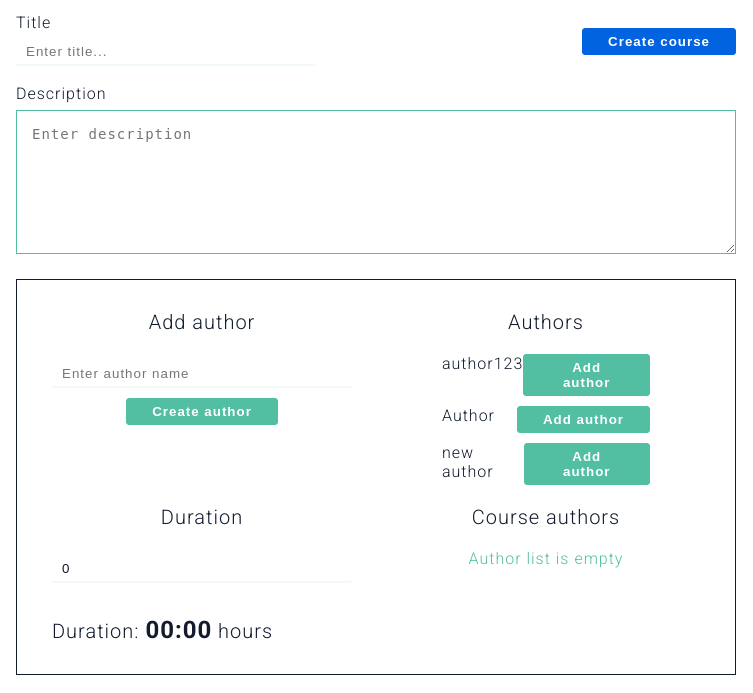
course form comp › course form comp with /add route › title error should be rendered on focus out in case of invalid data
Type "t" into the field labelled "Title".
click(166, 52); type("t")  # box [16,39,316,66]
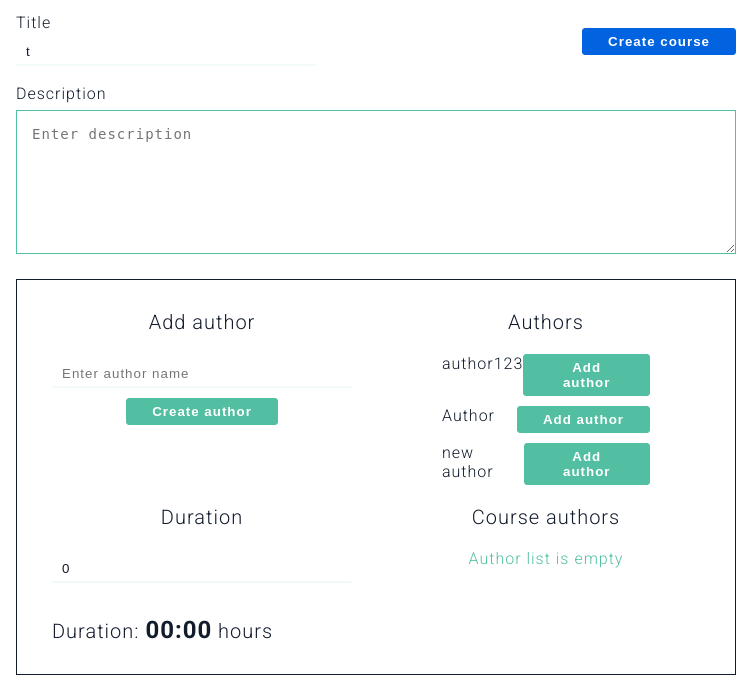
Leave the field labelled "Title", box [16,39,316,66]
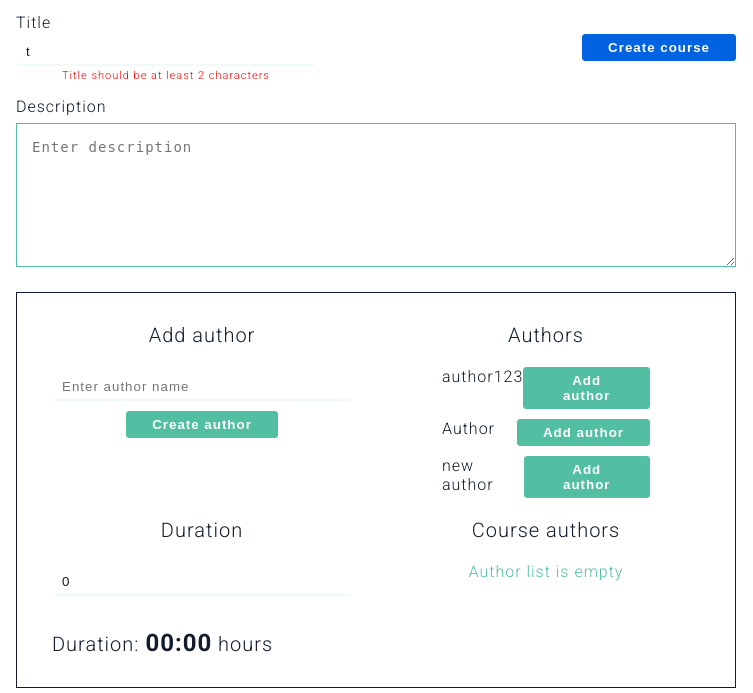
Expected: the text "Title should be at least 2 characters" is shown, [62,69,270,82]
